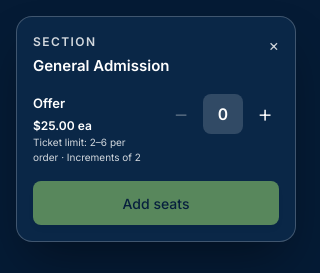
SeatmapTooltip GA stepper › steps a package GA section by min, max, and incrementsOf without promising taxes and fees
Expected: the text named "ticket quantity" reads "0", top-left (218, 104), bottom-right (228, 124)
Click the button named "increase quantity" at (265, 114), box top-left (251, 94), bottom-right (279, 134)
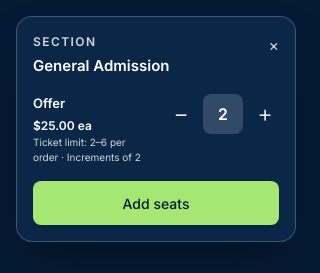
Click the button named "increase quantity" at (265, 114), box top-left (251, 94), bottom-right (279, 134)
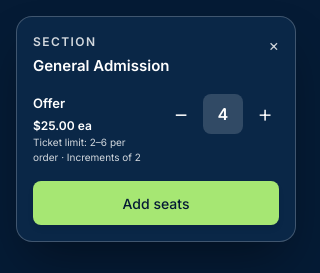
Click the button named "increase quantity" at (265, 114), box top-left (251, 94), bottom-right (279, 134)
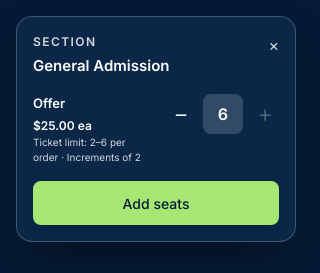
Expected: the text "Ticket limit: 2–6 per order · Increments of 2" is shown, top-left (33, 135), bottom-right (151, 165)
Expected: the text named "ticket quantity" reads "6", top-left (218, 104), bottom-right (228, 124)
Expected: the button named "increase quantity" is disabled, top-left (251, 94), bottom-right (279, 134)
